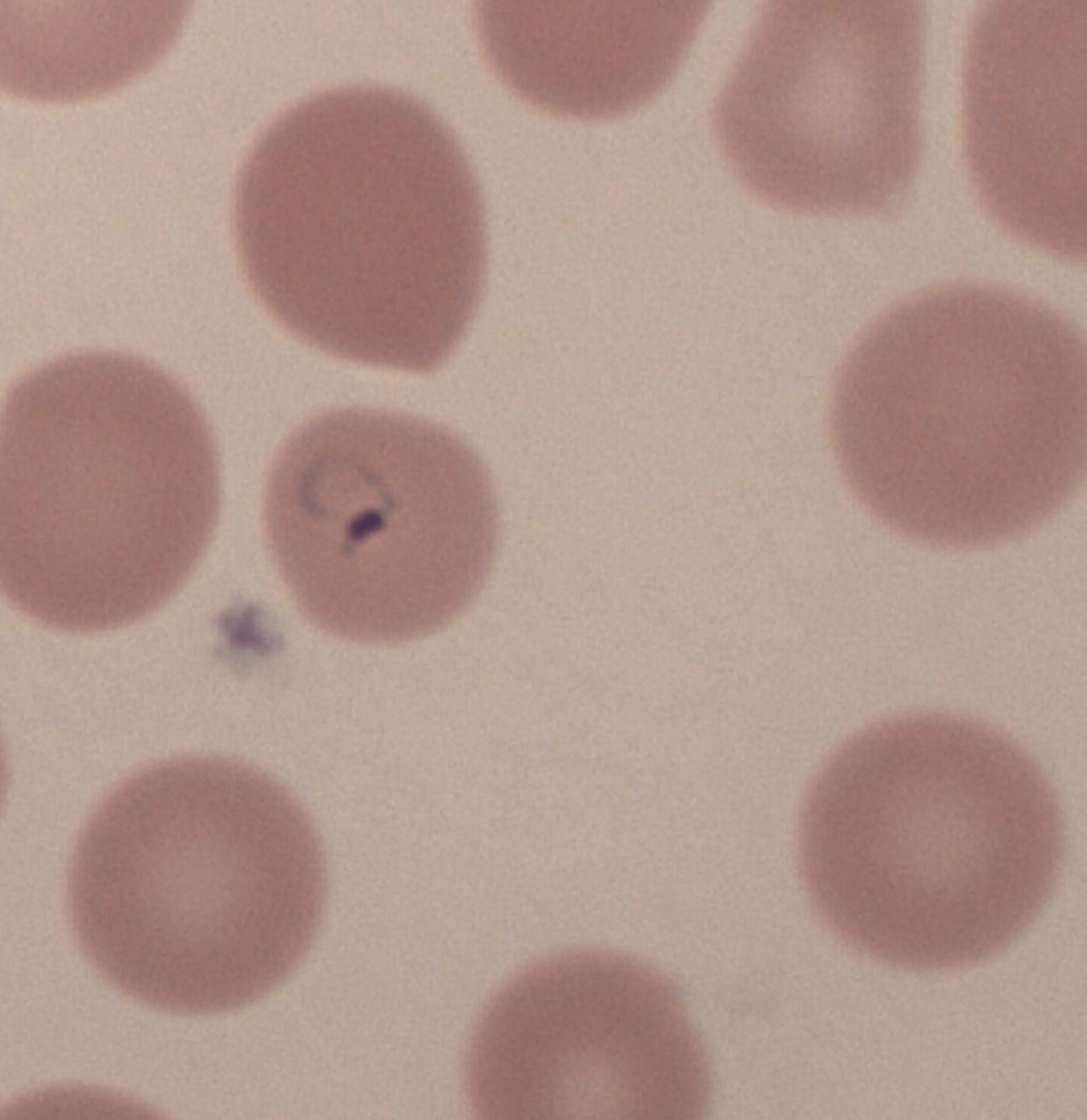Infected: (264, 408, 491, 653)
Uninfected: (244, 84, 496, 370), (803, 716, 1066, 982), (70, 755, 328, 1009), (837, 283, 1087, 544), (0, 351, 223, 638)
